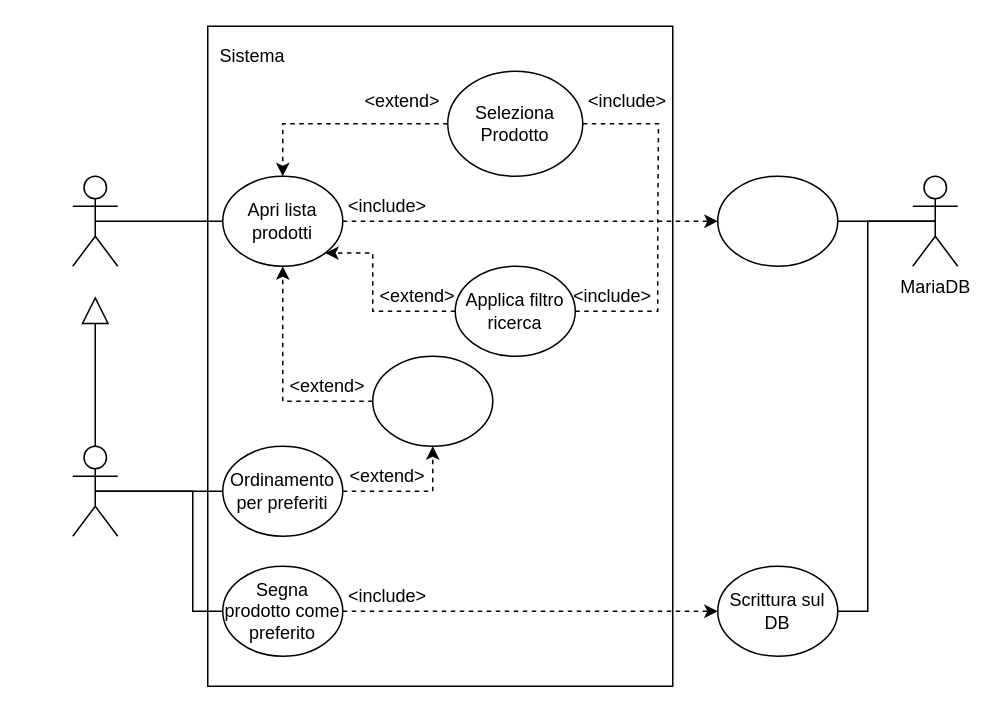
The diagram is 996 pixels wide and 713 high, and some of its shapes have lost their labels. The centre of each missing label's shape, as x and y in pixels:
Applica metodo di ordinamento: the point at 432,400
Lettura dal DB: the point at 777,220
Utente Anonimo: the point at 94,220
Utente Registrato: the point at 94,490
